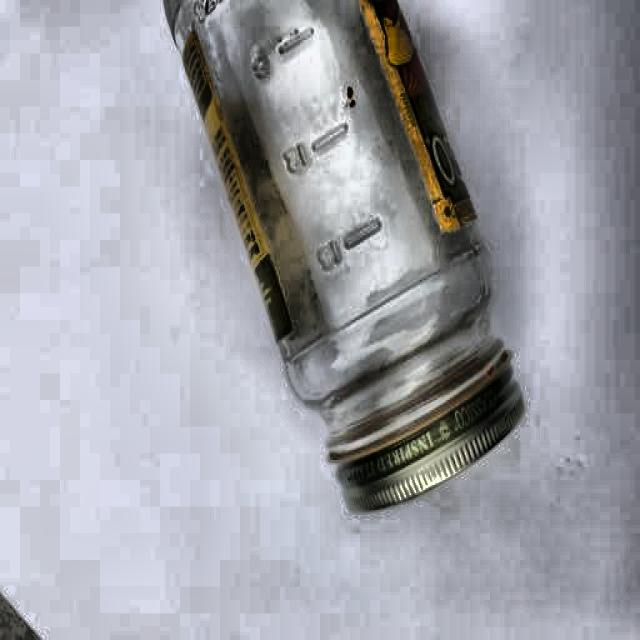glass: (153, 0, 529, 509)
